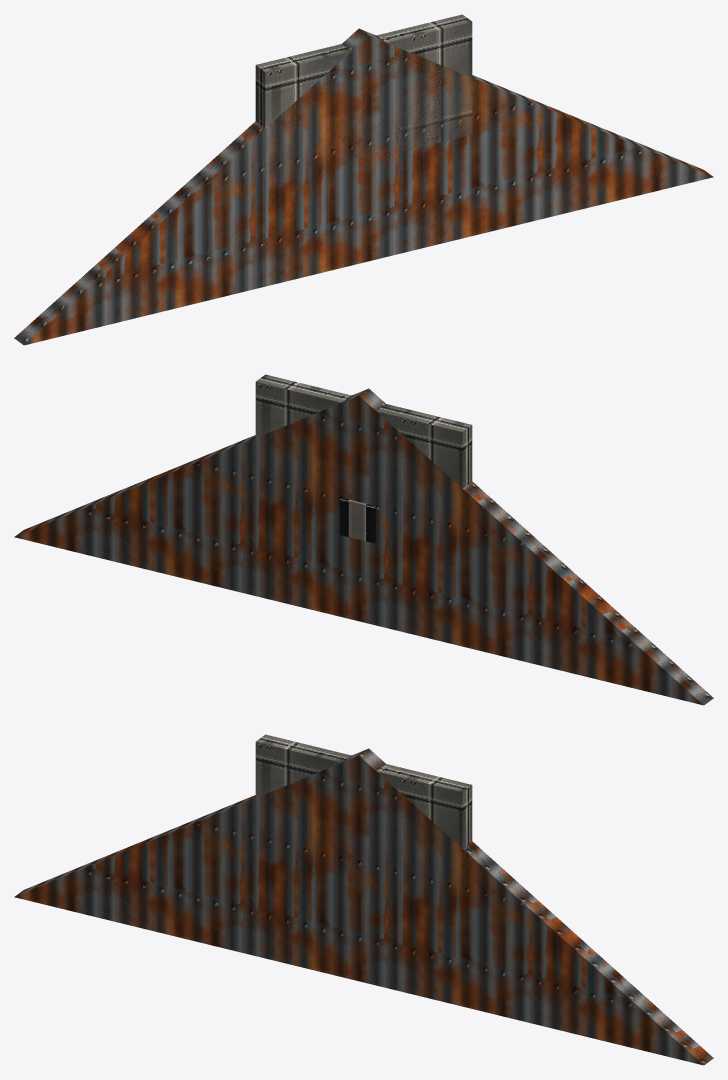
Rendered from gable_metal_12.glb.
3 renders of one model, top to bottom at view 1: azimuth 30°, elevation 25°; view 2: azimuth 150°, elevation 25°; view 3: azimuth 330°, elevation 25°, orthographic.
Parts seen in each view (by area): view 1: gable_metal_12_mesh, gable_metal_12_col-colonly.001; view 2: gable_metal_12_mesh, gable_metal_12_col-colonly.001; view 3: gable_metal_12_mesh, gable_metal_12_col-colonly.001.
Boxes of the visible parts, box(x1,y1,x2,y2) form: gable_metal_12_mesh: box(14, 28, 713, 345); gable_metal_12_col-colonly.001: box(255, 14, 472, 165); gable_metal_12_mesh: box(14, 388, 713, 705); gable_metal_12_col-colonly.001: box(255, 374, 472, 492); gable_metal_12_mesh: box(14, 748, 713, 1065); gable_metal_12_col-colonly.001: box(255, 734, 472, 848).
Size of what is drawn, in the model's own units: 12 by 3.75 by 0.355.
Materials: 3 (3 with a texture image).
